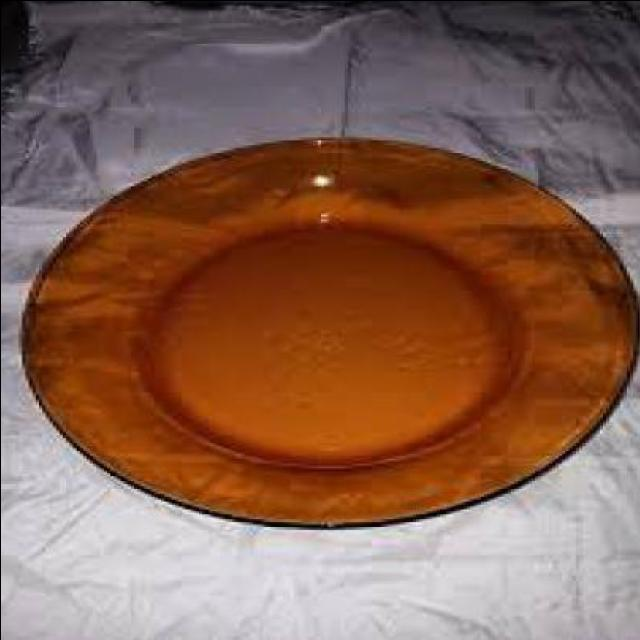kaca: (14, 134, 636, 526)
